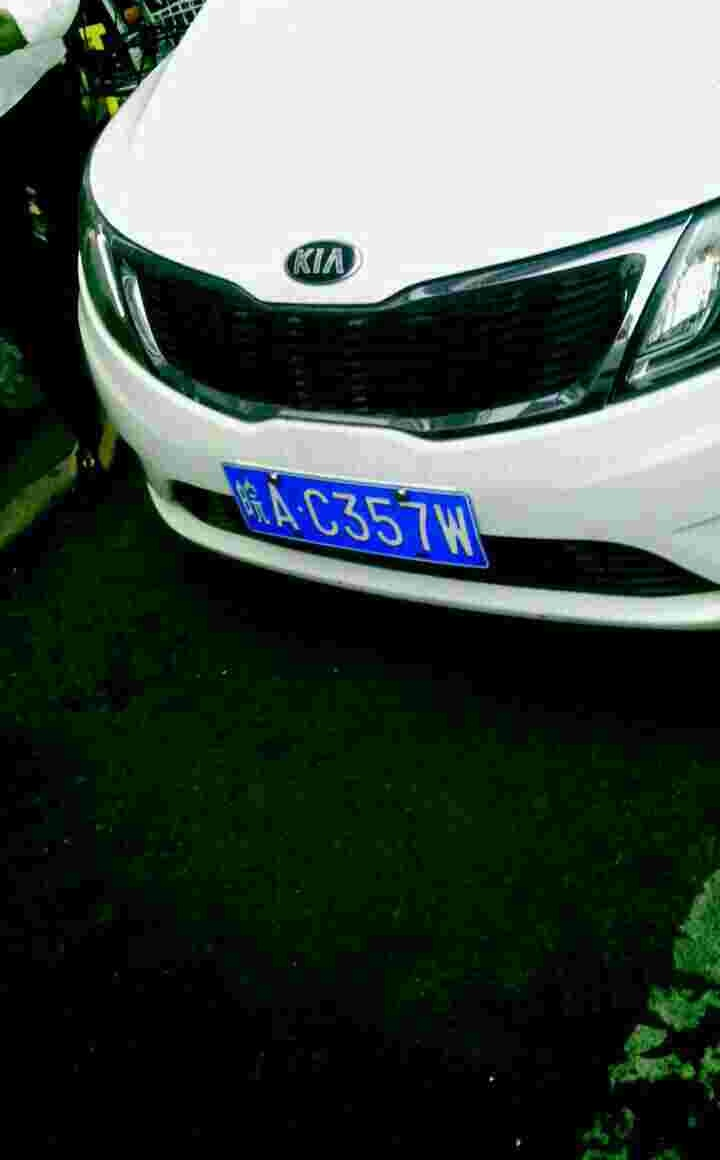license_plate: (229, 460, 483, 577)
